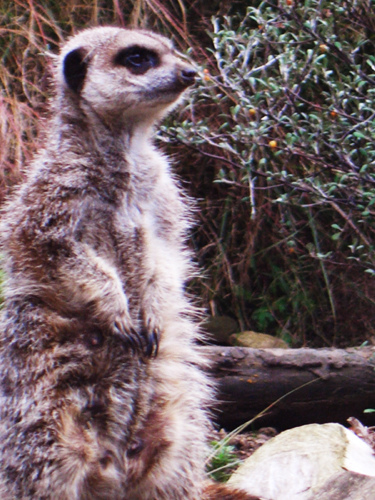cat: (1, 25, 216, 498)
